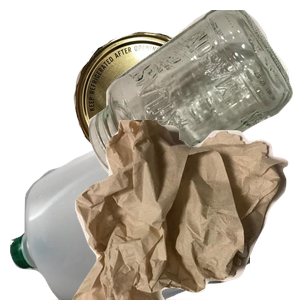glass: (86, 10, 300, 184)
metal: (71, 29, 276, 193)
plastic: (10, 120, 250, 300)
trash: (70, 120, 300, 300)
